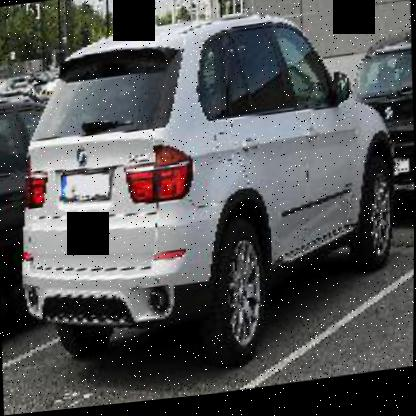not_emergency: (6, 0, 401, 396)
